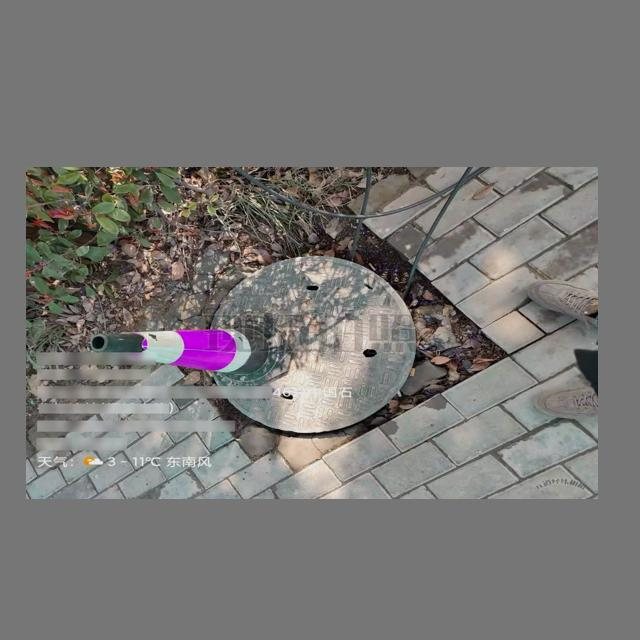broke: (202, 254, 417, 433)
